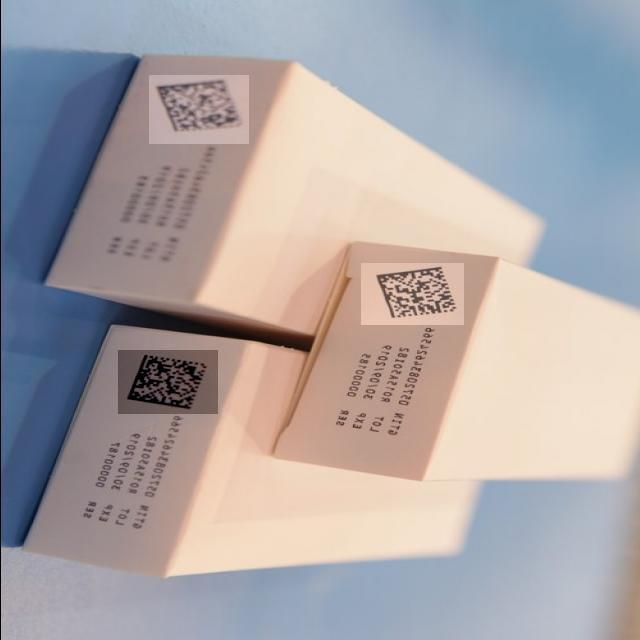Data-Matrix: (148, 75, 248, 144), (117, 350, 217, 414), (360, 263, 463, 325)
